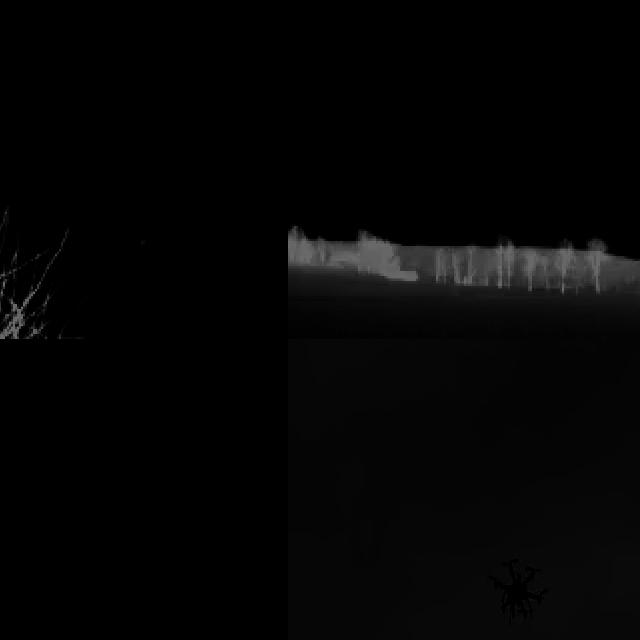0: (131, 230, 159, 263)
drone: (484, 545, 548, 623)
